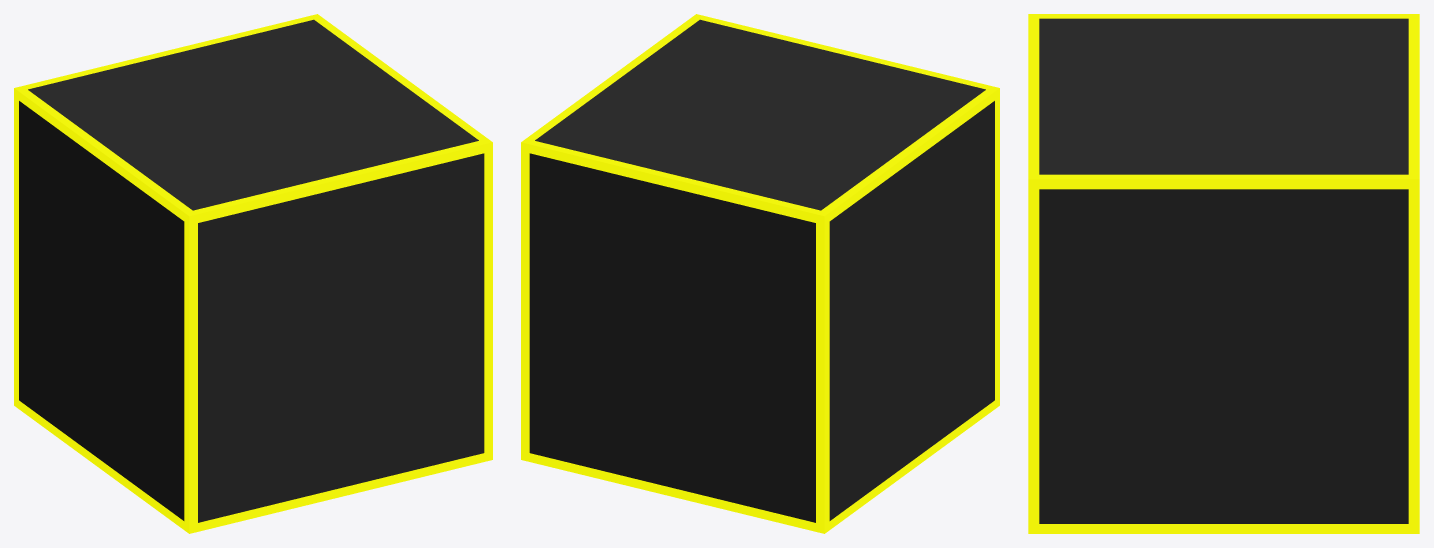
File: GroundYellow.glb
3 renders of one model, left to right at view 1: azimuth 30°, elevation 25°; view 2: azimuth 150°, elevation 25°; view 3: azimuth 270°, elevation 25°, orthographic. The views are drawn at different scales.
Parts seen in each view (by area): view 1: Yellow; view 2: Yellow; view 3: Yellow.
Boxes of the visible parts, bbox=[...] form: Yellow: bbox=[14, 14, 492, 533]; Yellow: bbox=[521, 14, 999, 533]; Yellow: bbox=[1028, 14, 1419, 533].
Bounding box in the file's own units: 2 × 2 × 2.
